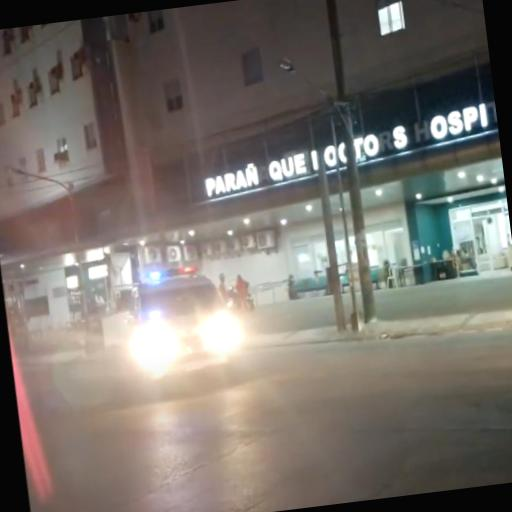Police car: (126, 261, 245, 384)
